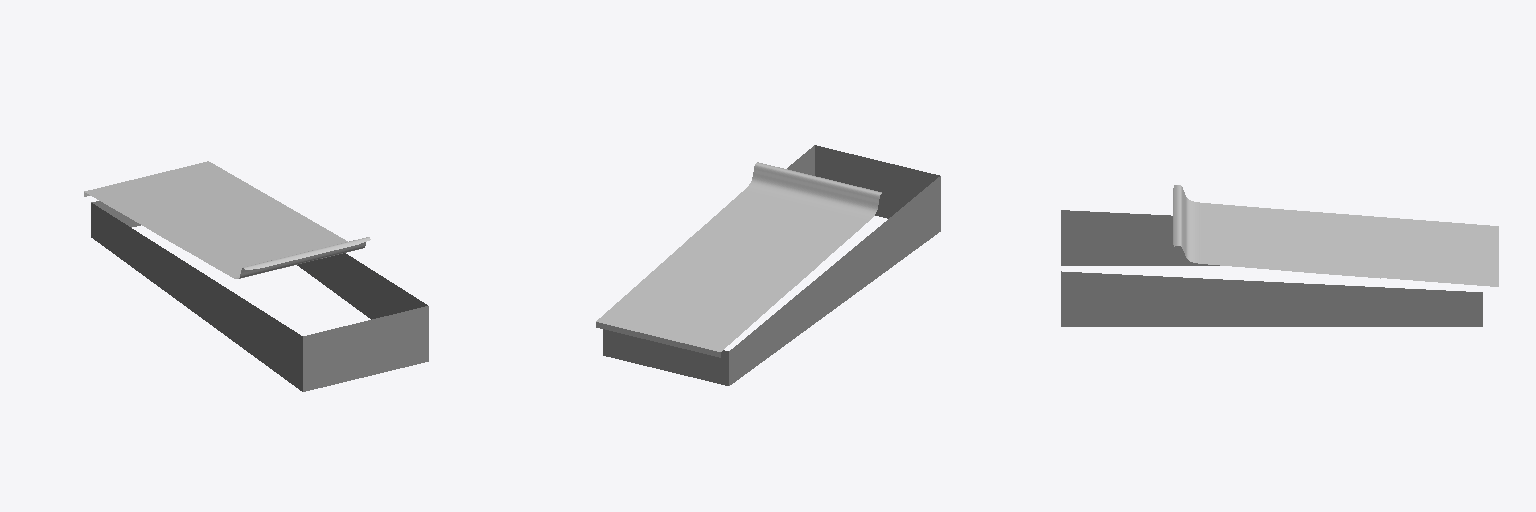
File: SkeeBall.obj
The picture shows the model from 3 angles: view 1: azimuth 30°, elevation 25°; view 2: azimuth 150°, elevation 25°; view 3: azimuth 270°, elevation 25°; orthographic projection.
Visible parts, largest first — view 1: Cube, Cube.001_Cube.002, Cube.002_Cube.003; view 2: Cube.001_Cube.002, Cube, Cube.002_Cube.003; view 3: Cube, Cube.001_Cube.002, Cube.002_Cube.003.
Boxes of the visible parts, box(x1,y1,x2,y2) form: Cube: box(91, 201, 428, 391); Cube.001_Cube.002: box(84, 161, 342, 268); Cube.002_Cube.003: box(147, 228, 370, 278); Cube.001_Cube.002: box(596, 202, 855, 357); Cube: box(603, 145, 940, 385); Cube.002_Cube.003: box(689, 162, 881, 290); Cube: box(1061, 210, 1482, 326); Cube.001_Cube.002: box(1229, 205, 1498, 286); Cube.002_Cube.003: box(1173, 185, 1380, 278).
Bounding box in the file's own units: 2.58 × 1.59 × 7.79.